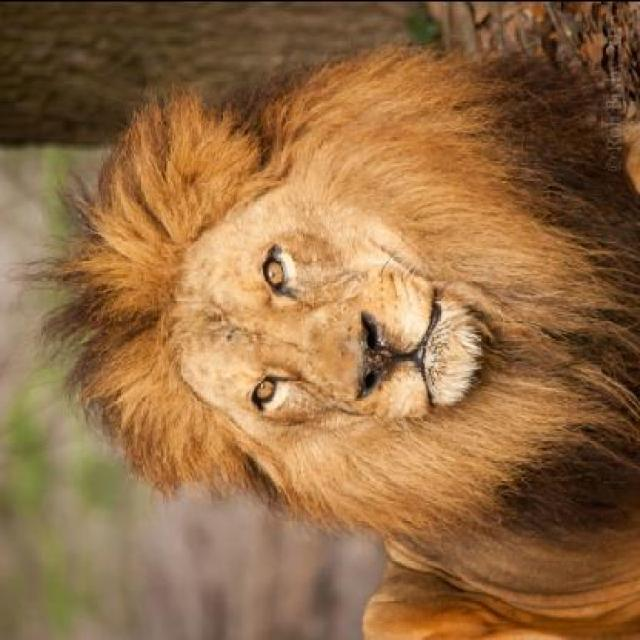Lion: (20, 34, 638, 637)
